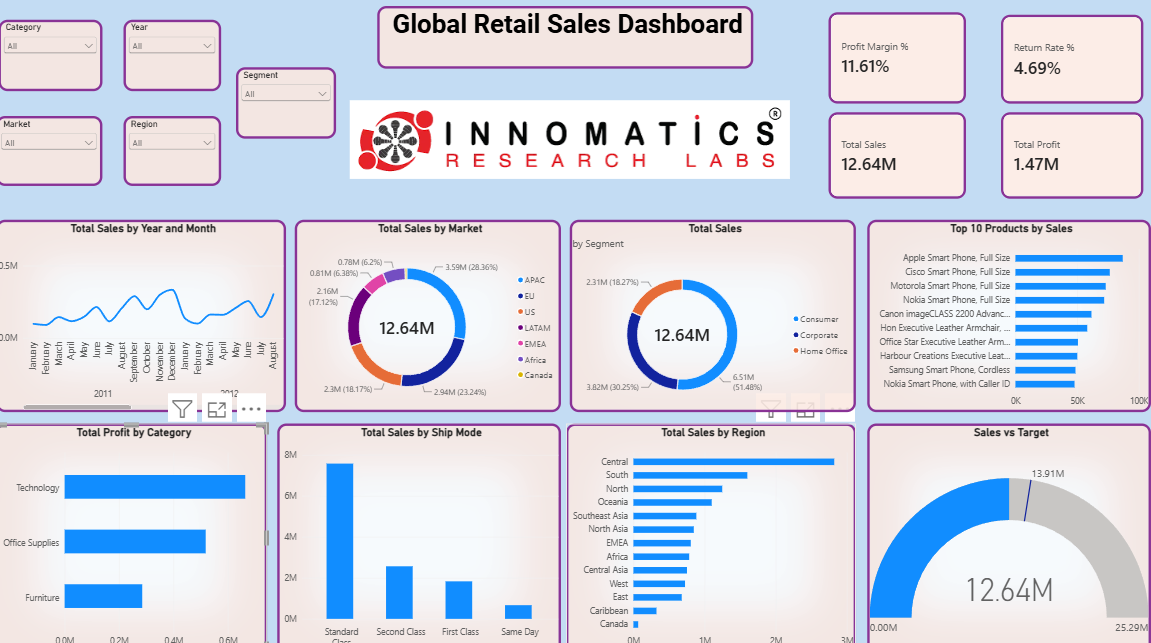

This screenshot's page, from the dashboard's own definition file:
{"tool":"powerbi","page":{"name":"Gobal Retail Sales Dashboard","canvas":[1920,1080],"ordinal":0},"visuals":[{"type":"cardVisual","fields":{"Data":["Orders.Total Sales"]},"box":[1370.8,191.4,226.4,142],"z":0},{"type":"cardVisual","fields":{"Data":["Orders.Total Profit"]},"box":[1654.9,191.4,234.6,142],"z":1000},{"type":"cardVisual","fields":{"Data":["Orders.Profit Margin %"]},"box":[1370.8,26.8,226.4,150.3],"z":2000},{"type":"cardVisual","fields":{"Data":["Orders.Return Rate %"]},"box":[1654.9,30.9,234.6,146.1],"z":3000},{"type":"textbox","box":[576.3,0,275,178],"z":4000},{"type":"textbox","box":[627.8,16.5,619.6,102.9],"z":5000},{"type":"lineChart","fields":{"Y":["Orders.Total Sales"],"Category":["DateTable.Year","DateTable.Month"]},"box":[0,368.4,477.5,317],"z":6000},{"type":"clusteredBarChart","fields":{"Y":["Orders.Total Sales"],"Category":["Orders.Region"]},"box":[938.6,703.9,477.5,376.7],"z":7000},{"type":"donutChart","fields":{"Category":["Orders.Market"],"Y":["Orders.Total Sales"]},"box":[491.9,368.4,438.4,317],"z":8000},{"type":"clusteredBarChart","fields":{"Category":["Orders.Category"],"Y":["Orders.Total Profit"]},"box":[0,703.9,446.7,376.7],"z":9000},{"type":"donutChart","fields":{"Category":["Orders.Segment"],"Y":["Orders.Total Sales"]},"box":[944.8,368.4,471.4,317],"z":10000},{"type":"columnChart","fields":{"Category":["Orders.Ship Mode"],"Y":["Orders.Total Sales"]},"box":[463.1,703.9,467.2,376.7],"z":11000},{"type":"slicer","fields":{"Values":["DateTable.Year"]},"box":[209.9,39.1,160.5,117.3],"z":12000},{"type":"slicer","fields":{"Values":["Orders.Market"]},"box":[0,197.6,175,115.3],"z":13000},{"type":"slicer","fields":{"Values":["Orders.Region"]},"box":[209.9,197.6,160.5,115.3],"z":14000},{"type":"slicer","fields":{"Values":["Orders.Segment"]},"box":[395.2,117.3,164.7,117.3],"z":15000},{"type":"slicer","fields":{"Values":["Orders.Category"]},"box":[4.1,39.1,170.8,117.3],"z":16000},{"type":"clusteredBarChart","title":"Top 10 Products by Sales","fields":{"Category":["Orders.Product Name"],"Y":["Orders.Total Sales"]},"box":[1434.7,368.4,467.2,317],"z":17000},{"type":"gauge","title":"Sales vs Target","fields":{"Y":["Orders.Total Sales"],"TargetValue":["DateTable.Sales Target"]},"box":[1434.7,703.9,467.2,376.7],"z":18000},{"type":"image","box":[582.5,98.8,724.5,275.8],"z":19000}]}

Visuals, with their boxes in screenshot pixels (x1, y1, x2, y2), scaled from the page's 1920x1080 canvas onto the 1151x643 screenshot:
cardVisual - Orders.Total Sales: rect(822, 114, 957, 198)
cardVisual - Orders.Total Profit: rect(992, 114, 1133, 198)
cardVisual - Orders.Profit Margin %: rect(822, 16, 957, 105)
cardVisual - Orders.Return Rate %: rect(992, 18, 1133, 105)
textbox: rect(345, 0, 510, 106)
textbox: rect(376, 10, 748, 71)
lineChart - Orders.Total Sales x DateTable.Year: rect(0, 219, 286, 408)
clusteredBarChart - Orders.Total Sales x Orders.Region: rect(563, 419, 849, 642)
donutChart - Orders.Market x Orders.Total Sales: rect(295, 219, 558, 408)
clusteredBarChart - Orders.Category x Orders.Total Profit: rect(0, 419, 268, 642)
donutChart - Orders.Segment x Orders.Total Sales: rect(566, 219, 849, 408)
columnChart - Orders.Ship Mode x Orders.Total Sales: rect(278, 419, 558, 642)
slicer - DateTable.Year: rect(126, 23, 222, 93)
slicer - Orders.Market: rect(0, 118, 105, 186)
slicer - Orders.Region: rect(126, 118, 222, 186)
slicer - Orders.Segment: rect(237, 70, 336, 140)
slicer - Orders.Category: rect(2, 23, 105, 93)
"Top 10 Products by Sales" clusteredBarChart: rect(860, 219, 1140, 408)
"Sales vs Target" gauge: rect(860, 419, 1140, 642)
image: rect(349, 59, 784, 223)
